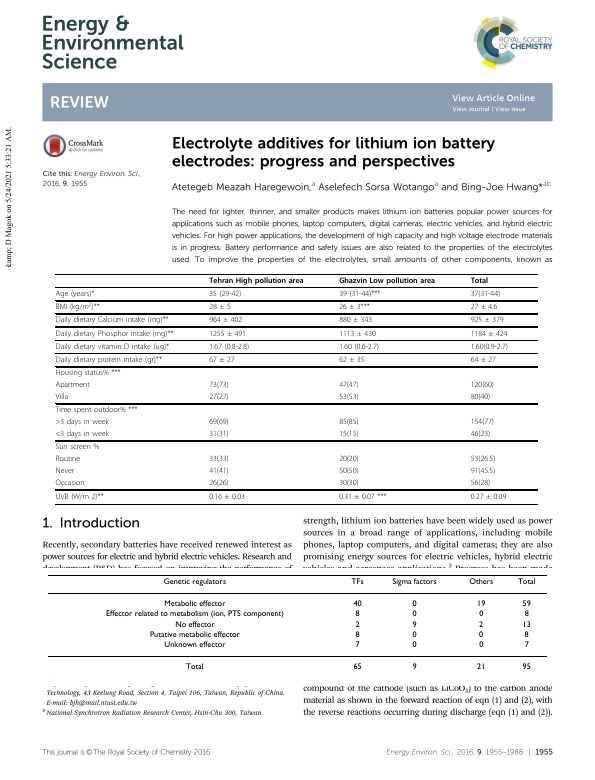borderless: (54, 272, 538, 504), (46, 573, 548, 680)
cell: (104, 610, 284, 620), (55, 329, 175, 338), (55, 355, 163, 365), (55, 316, 170, 325), (55, 342, 170, 351), (148, 630, 240, 640), (338, 276, 436, 285), (208, 276, 304, 285), (55, 406, 138, 415), (55, 368, 121, 378), (162, 577, 227, 587), (163, 600, 226, 609), (163, 641, 226, 650), (55, 429, 110, 439), (54, 301, 101, 312), (55, 418, 110, 427), (391, 577, 437, 587), (55, 492, 104, 501), (338, 492, 387, 501), (338, 289, 381, 299), (174, 620, 215, 630), (54, 289, 95, 299), (55, 443, 100, 452), (208, 342, 250, 351), (338, 342, 380, 351), (55, 380, 91, 390), (208, 329, 247, 338), (338, 329, 377, 338), (470, 342, 509, 351), (470, 329, 508, 338), (208, 492, 246, 501), (208, 289, 242, 299), (470, 492, 507, 501), (338, 302, 371, 312), (208, 316, 243, 325), (338, 316, 373, 325), (470, 316, 505, 325), (470, 289, 501, 299), (470, 302, 498, 312), (208, 355, 235, 365), (338, 355, 365, 365), (470, 355, 497, 365), (55, 479, 85, 488), (468, 577, 494, 587), (470, 380, 495, 390), (208, 302, 232, 312), (55, 455, 81, 464), (470, 455, 496, 464), (470, 467, 496, 476), (470, 418, 495, 427), (208, 380, 230, 390), (208, 392, 230, 402), (208, 429, 230, 439), (338, 380, 359, 390), (338, 392, 359, 402), (470, 392, 491, 402), (338, 429, 359, 439), (470, 429, 491, 439), (516, 577, 536, 587), (208, 418, 230, 427), (208, 455, 230, 464), (208, 467, 230, 476), (208, 479, 230, 488), (185, 663, 204, 673), (338, 418, 359, 427), (338, 455, 359, 464), (338, 467, 359, 476), (338, 479, 359, 488), (470, 479, 491, 488), (55, 467, 75, 476), (470, 276, 489, 285), (350, 577, 364, 587), (55, 392, 69, 402), (521, 620, 531, 630), (352, 663, 362, 673), (476, 663, 486, 673), (521, 663, 531, 673), (352, 600, 362, 609), (476, 600, 486, 609), (521, 600, 531, 609), (354, 610, 360, 620), (411, 610, 417, 620), (478, 610, 484, 620), (523, 610, 529, 620), (354, 620, 360, 630), (411, 620, 417, 630), (478, 620, 484, 630), (354, 630, 360, 640), (411, 630, 417, 640), (478, 630, 484, 640), (523, 630, 529, 640), (411, 663, 417, 673), (411, 600, 417, 609), (354, 641, 360, 650), (411, 641, 417, 650), (478, 641, 484, 650), (523, 641, 529, 650)
